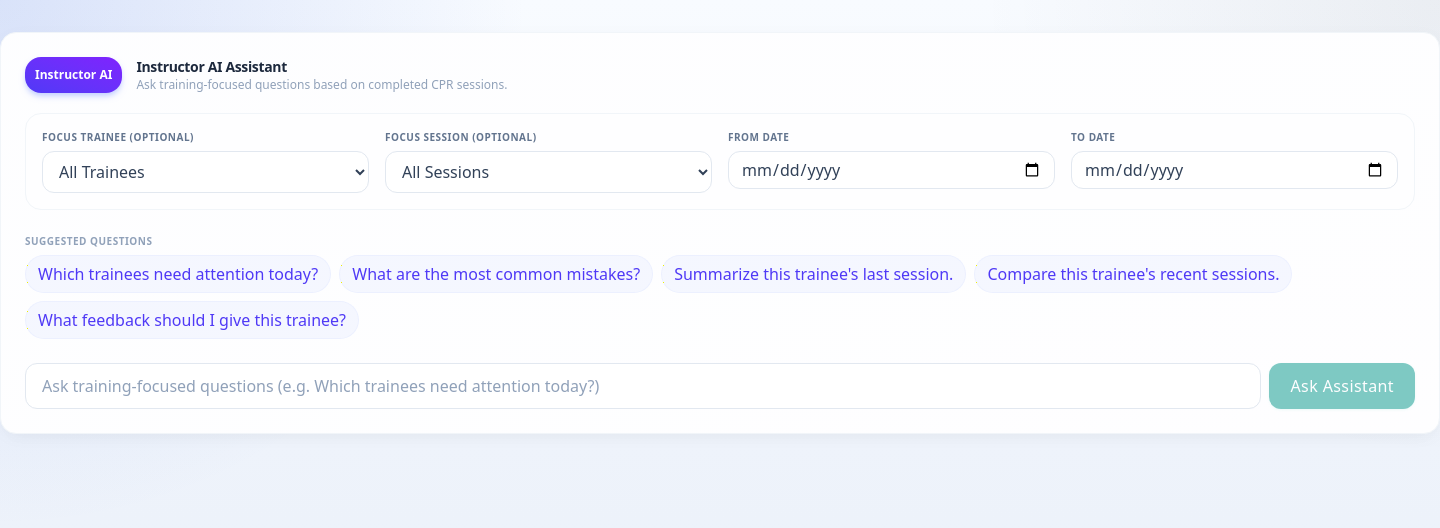
Test case: InstructorAiAssistantPanel › renders error state correctly when API fails
The width and height of the screenshot is (1440, 528).
Replace the text in the field with placeholder "Ask training-focused questions" with "Which trainees need attention today?" at coordinates (643, 386), box [25,363,1261,409]
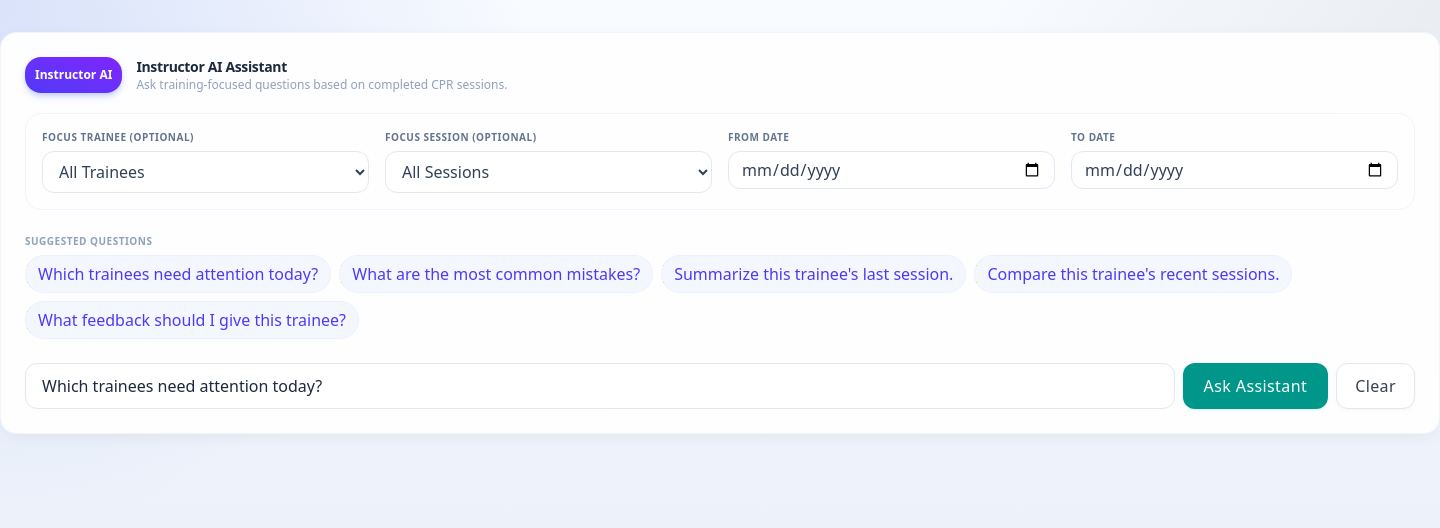
Click the button "Ask Assistant" at coordinates (1255, 386), box [1183,363,1328,409]
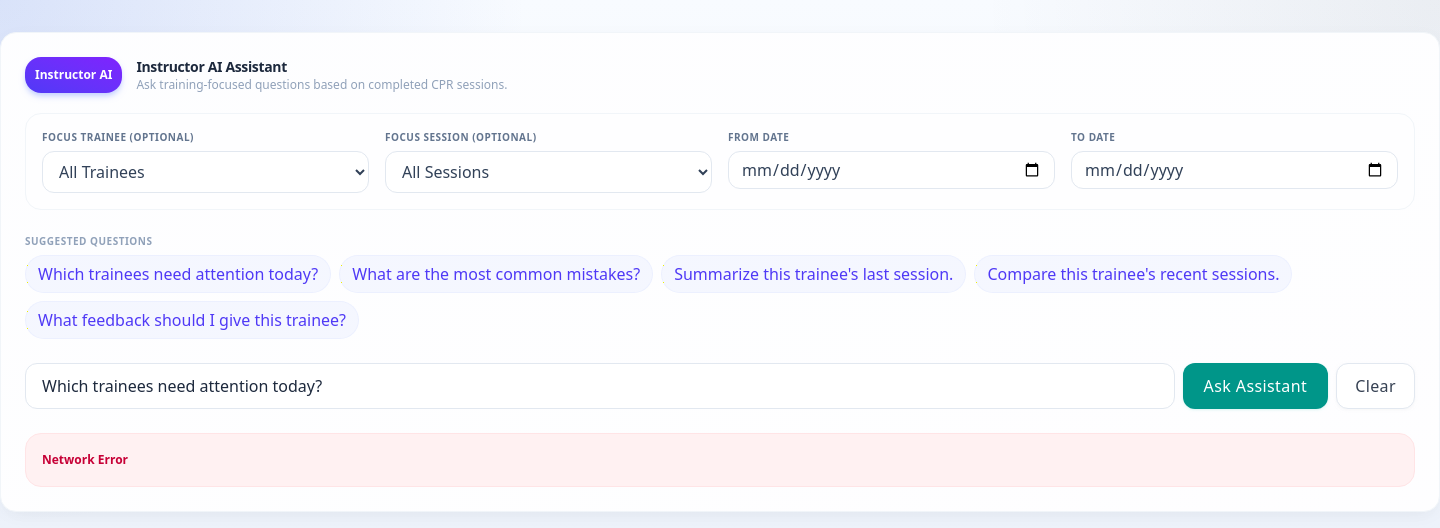
Expected: the text "Network Error" is shown, [25,433,1415,486]
